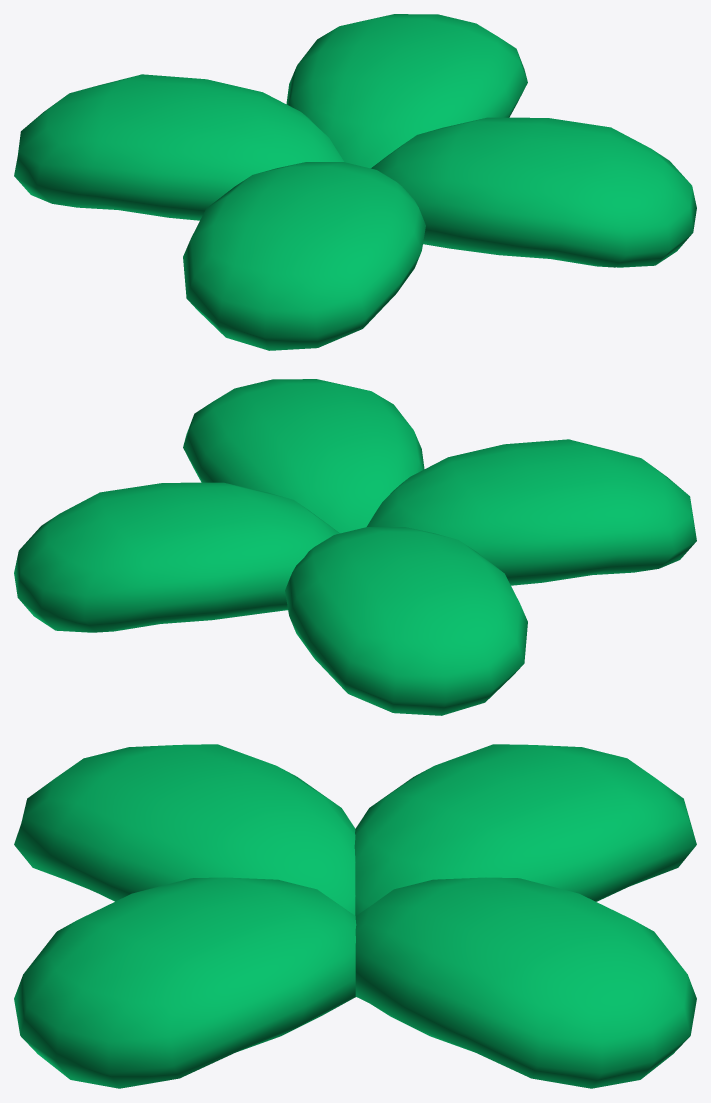
The model's file is Town_7_Plant_1.glb.
3 views of the same model, one above another, from view 1: azimuth 30°, elevation 25°; view 2: azimuth 150°, elevation 25°; view 3: azimuth 270°, elevation 25° (orthographic). The views are drawn at different scales.
Visible parts, largest first — view 1: Town_7_Plant_1; view 2: Town_7_Plant_1; view 3: Town_7_Plant_1.
Boxes of the visible parts, x1,y1,x2,y2 form: Town_7_Plant_1: (14, 14, 696, 350); Town_7_Plant_1: (14, 379, 696, 715); Town_7_Plant_1: (14, 744, 696, 1088).
Size of the model in its own units: 0.7203 by 0.1498 by 0.7203.
Materials: 1 (1 with a texture image).
